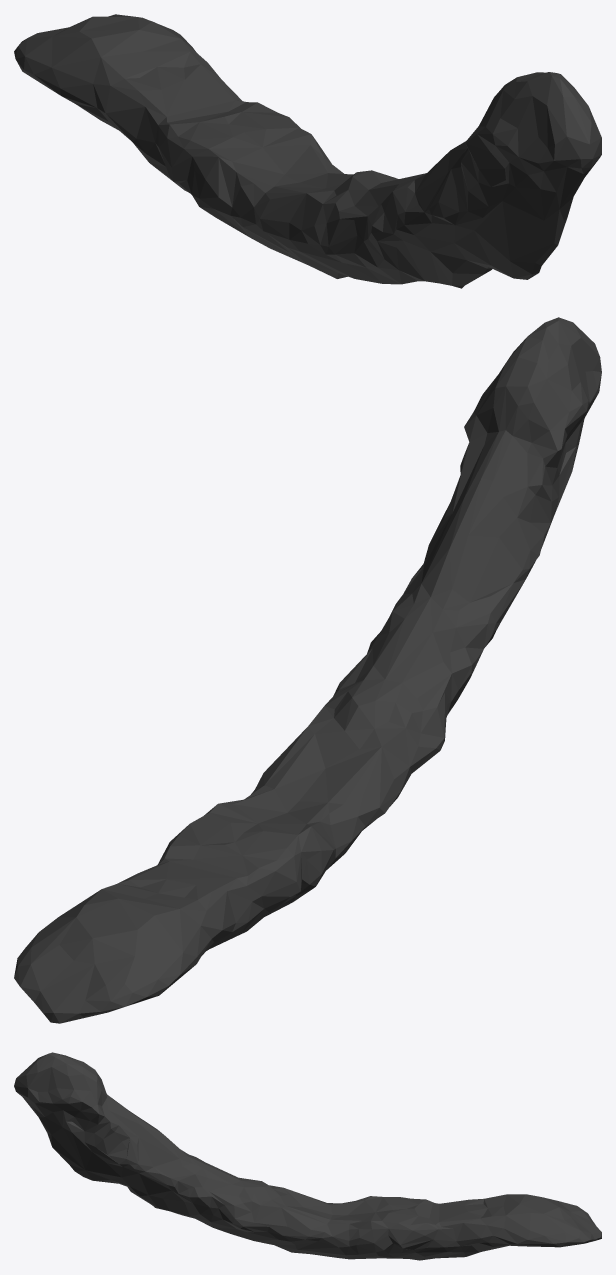
File: skel_sternum.glb
3 views of the same model, one above another, from view 1: azimuth 30°, elevation 25°; view 2: azimuth 150°, elevation 25°; view 3: azimuth 270°, elevation 25° (orthographic). The views are drawn at different scales.
Visible parts, largest first — view 1: skel_sternum; view 2: skel_sternum; view 3: skel_sternum.
Boxes of the visible parts, x1,y1,x2,y2 form: skel_sternum: (14,14,601,288); skel_sternum: (14,317,601,1023); skel_sternum: (14,1052,601,1260).
Size of the model in its own units: 0.0012 by 0.00297 by 0.00768.
Materials: 1 (1 with a texture image).
